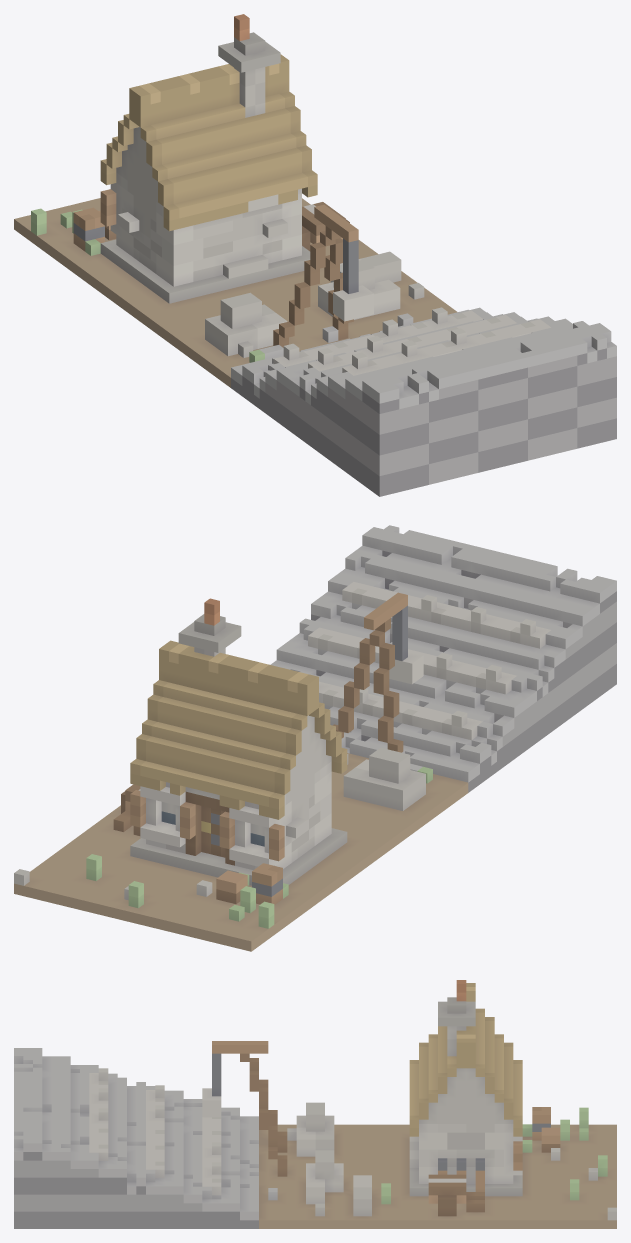
Rendered from quarry.glb.
3 renders of one model, top to bottom at view 1: azimuth 30°, elevation 25°; view 2: azimuth 150°, elevation 25°; view 3: azimuth 270°, elevation 25°, orthographic. The views are drawn at different scales.
Parts seen in each view (by area): view 1: quarry; view 2: quarry; view 3: quarry.
Part boxes in pixels (bbox=[...]): quarry: bbox=[14, 14, 616, 496]; quarry: bbox=[14, 525, 616, 951]; quarry: bbox=[14, 980, 616, 1228].
Size of the model in its own units: 3 by 3 by 8.
